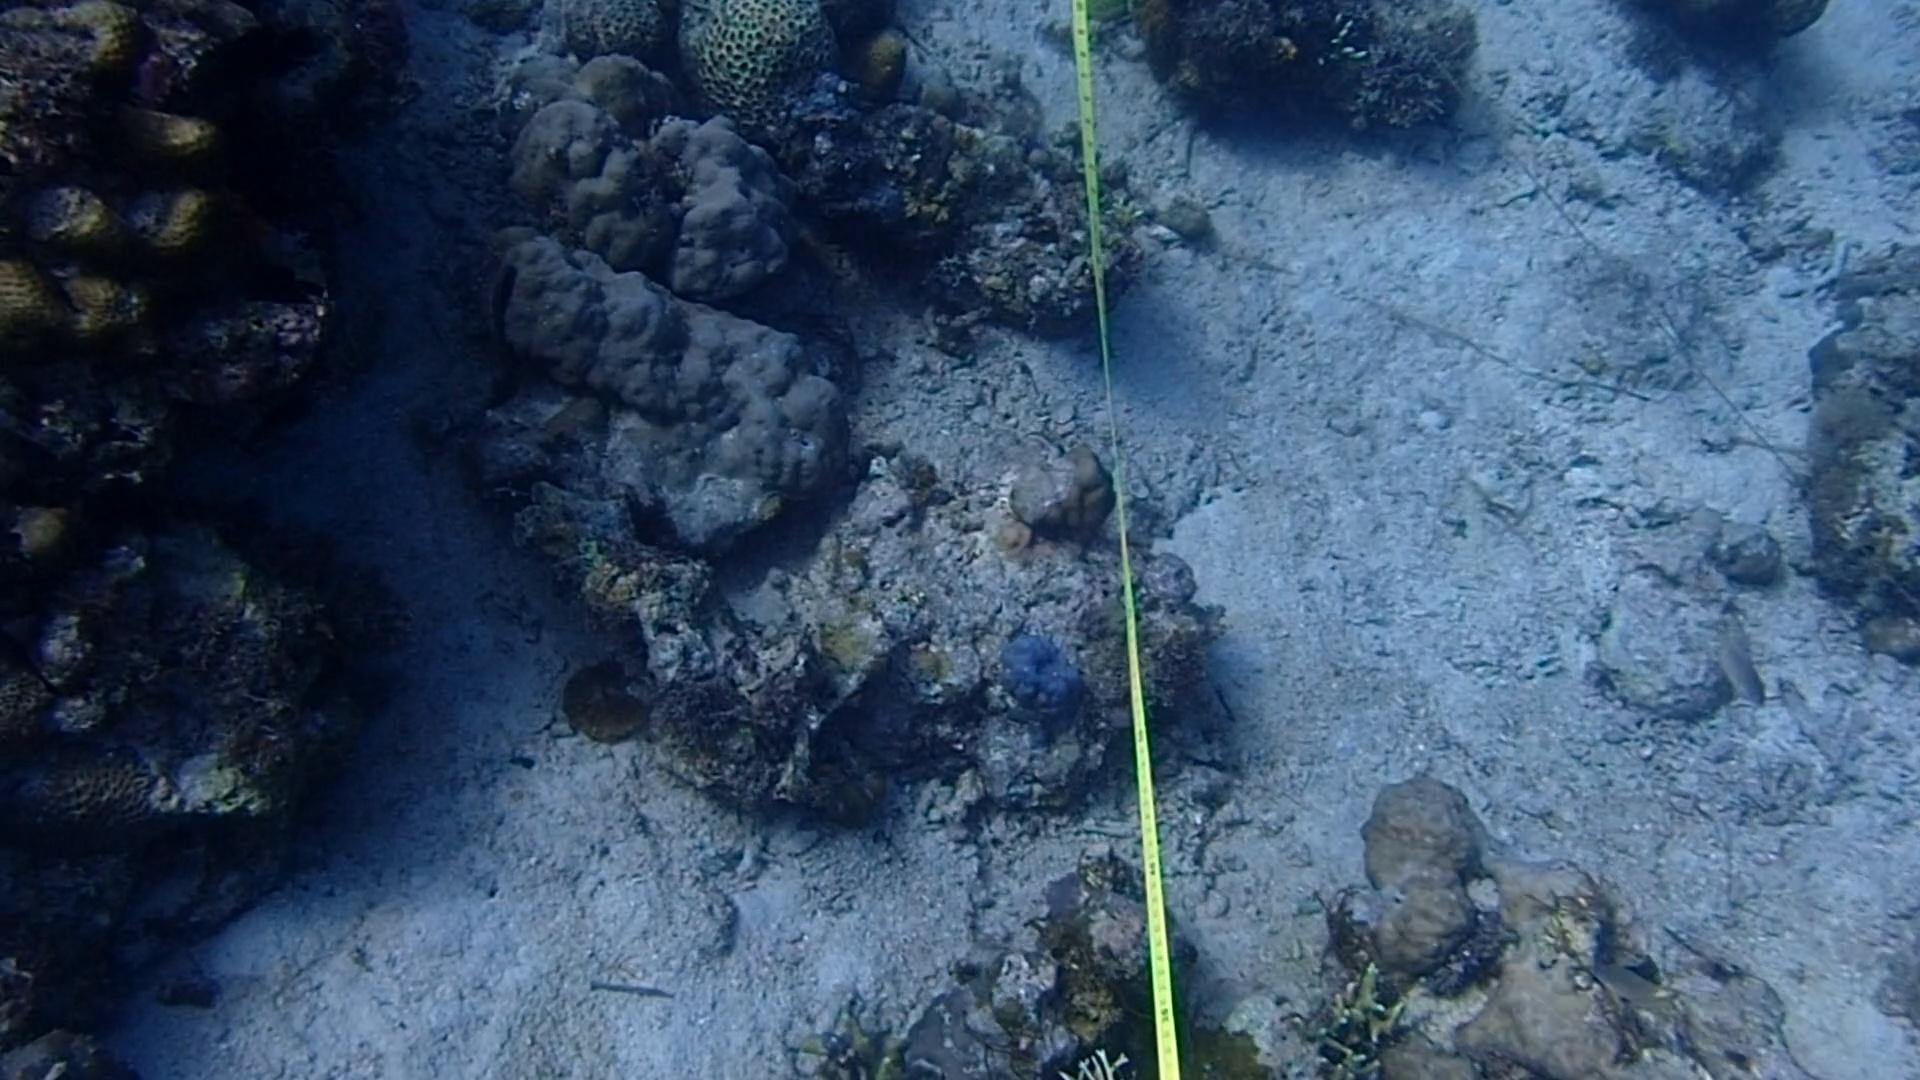Dark Fish: (170, 11, 309, 112), (471, 256, 551, 378), (203, 237, 313, 322), (193, 800, 256, 897)
Light Fish: (1702, 618, 1776, 707)
